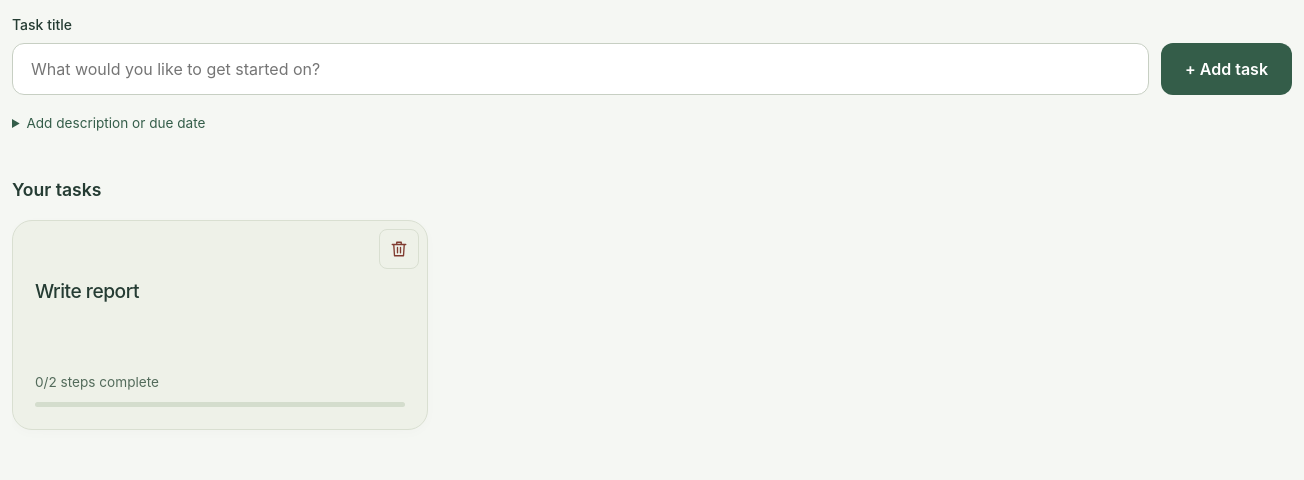
Test: emphasizes only the next incomplete step and finishes after both updates
Click the button "Write report 0/2 steps complete".
click(87, 291)  # box 13,221 -> 427,429
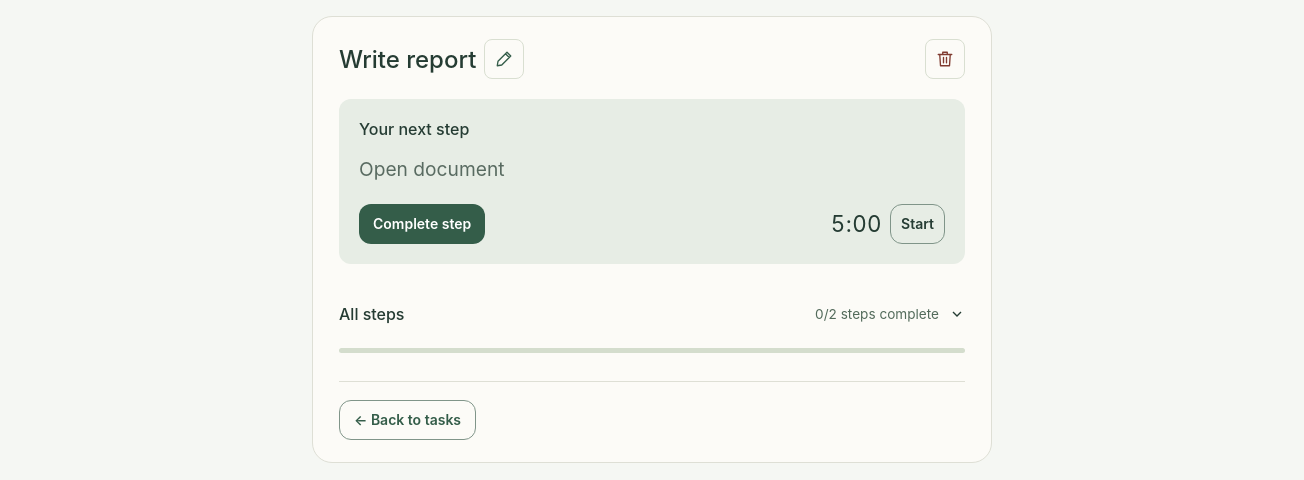
Check: the text "Write one line" is not shown
Click the button "Complete step".
click(422, 224)  # box 359,204 -> 485,244
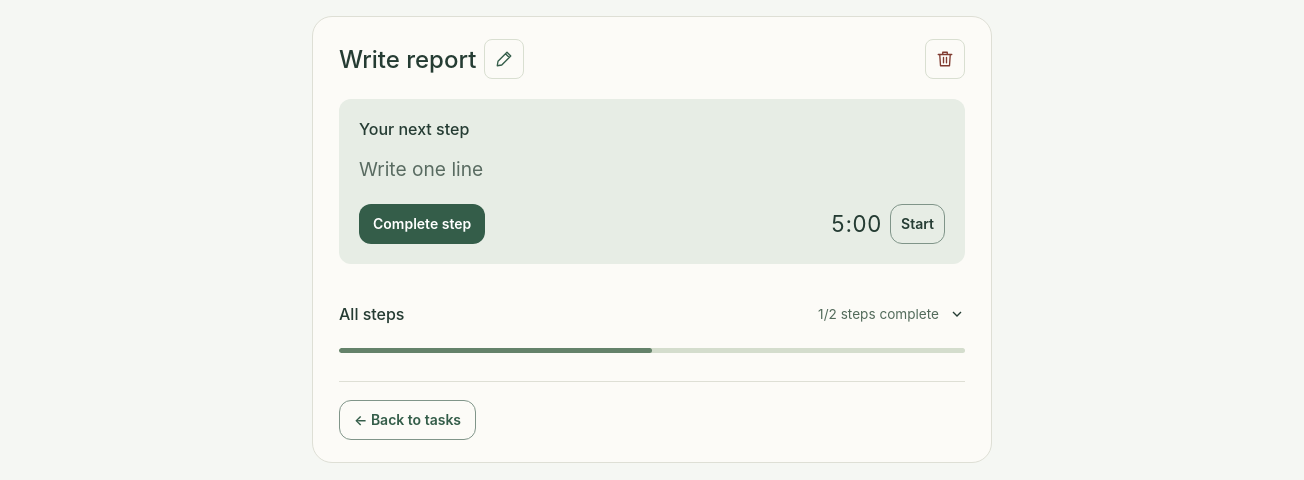
Check: the text "Write one line" is shown, box 359,157 -> 483,181
Check: the text "Open document" is gone
Click the button "Complete step".
click(422, 224)  # box 359,204 -> 485,244
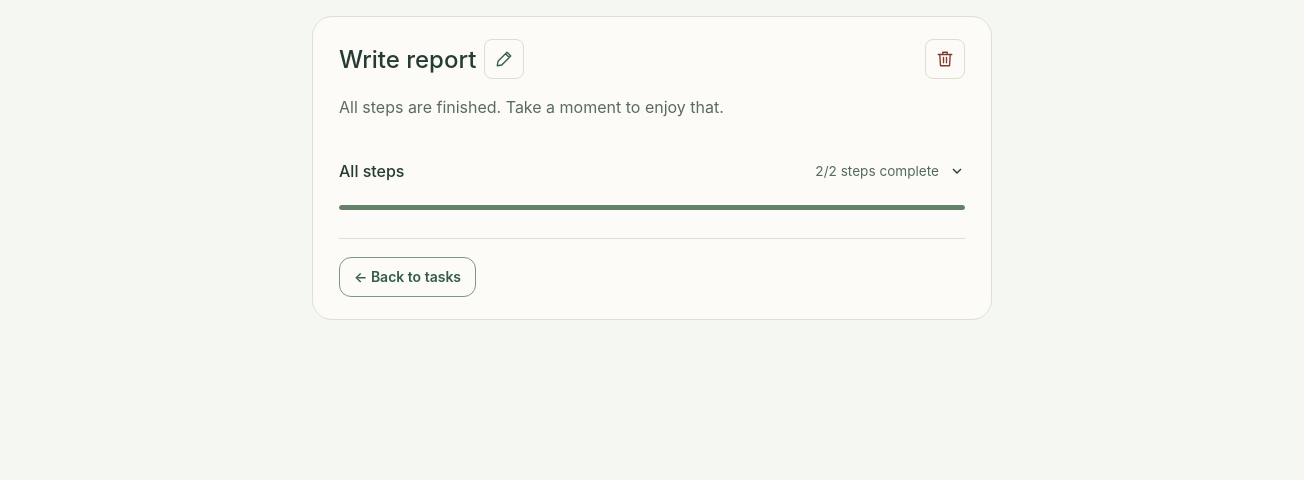
Check: the text "All steps are finished. Take a moment to enjoy that." is shown, box 339,97 -> 724,117
